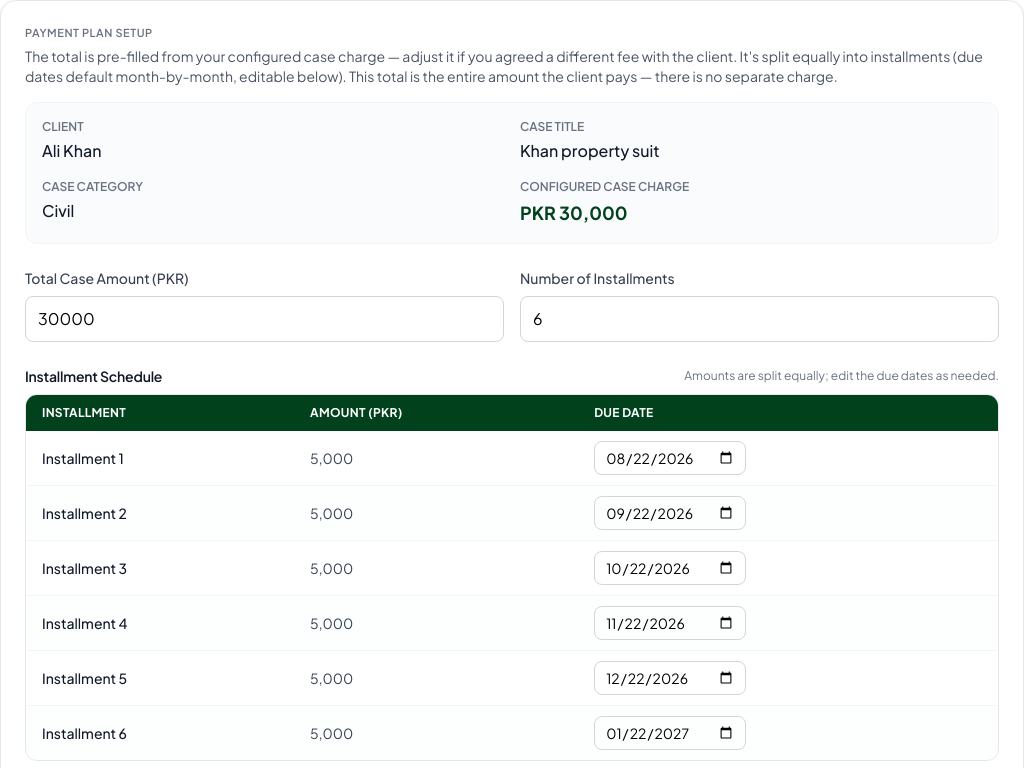
it: PaymentPlanSetup › refuses a due date in the past
Expected: the text "Total Case Amount (PKR)" is shown, [25,268,188,286]
Replace the text in the number field below "Total Case Amount (PKR)" with "9000": (264, 318) [25,296,504,342]
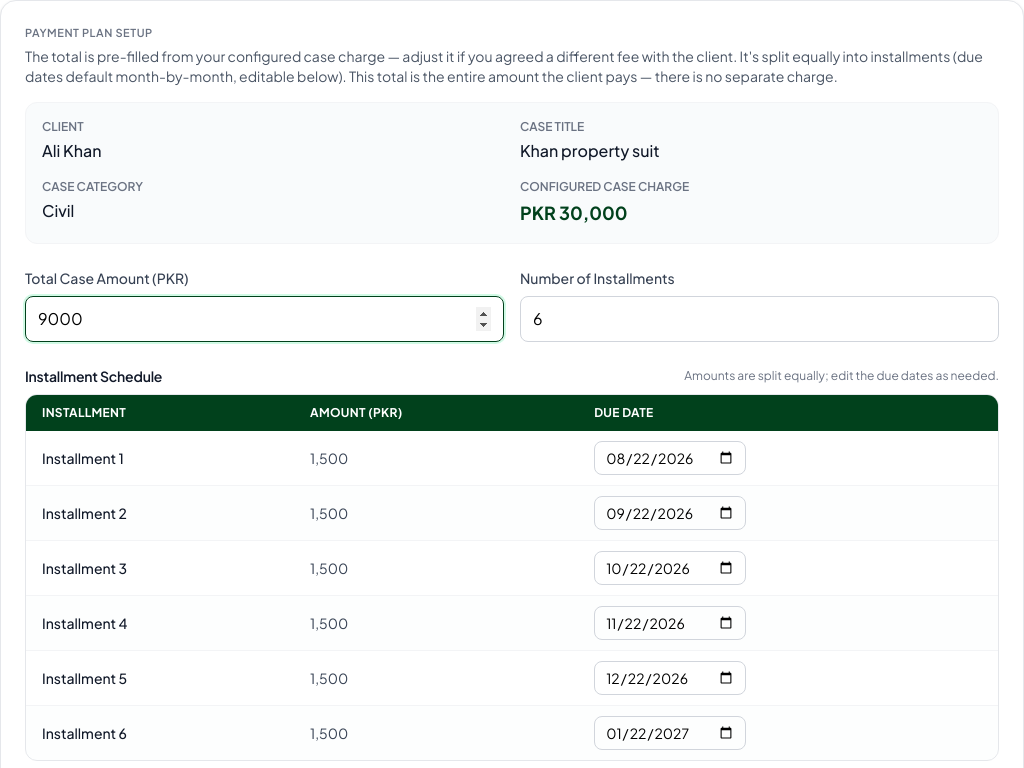
Replace the text in the number field below "Number of Installments" with "2": (760, 318) [520,296,999,342]
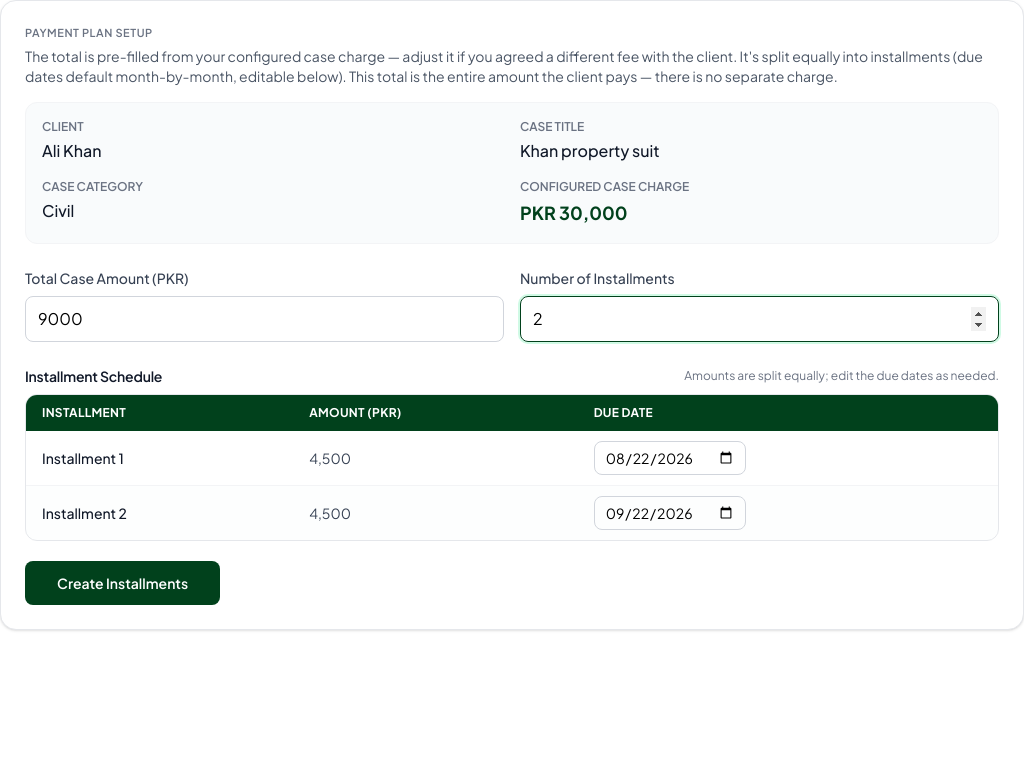
In the 1st date field: (670, 458) [594,440,746,474], type "2020-01-01"
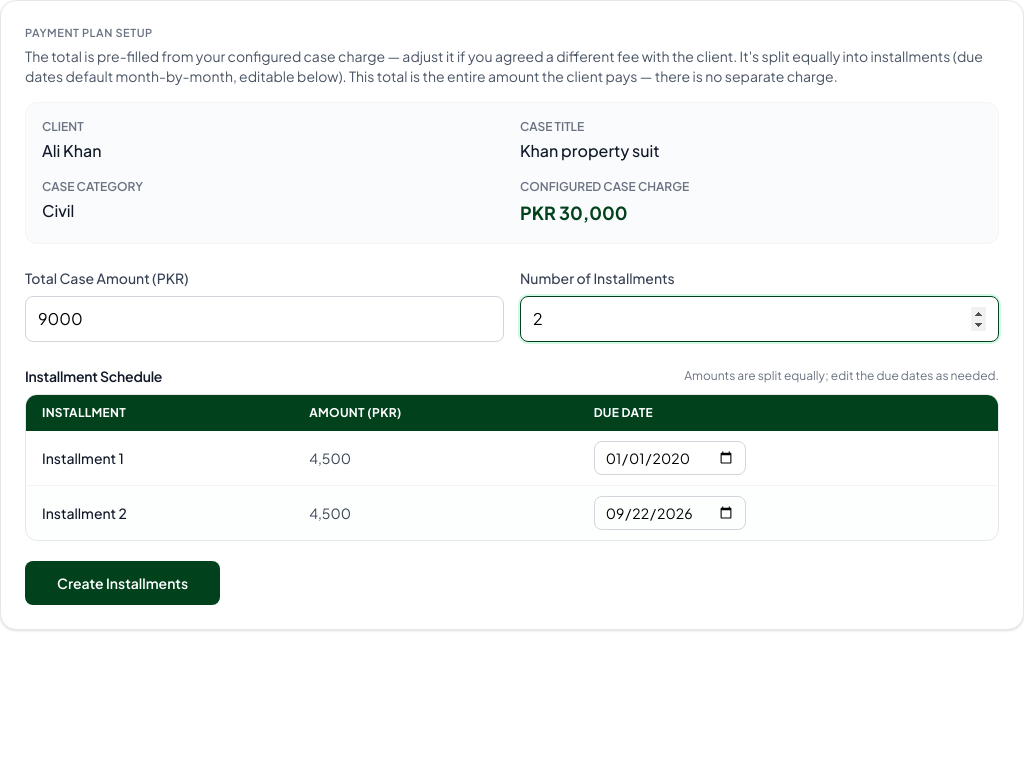
Click the button "Create Installments": (123, 582) [25,560,220,604]
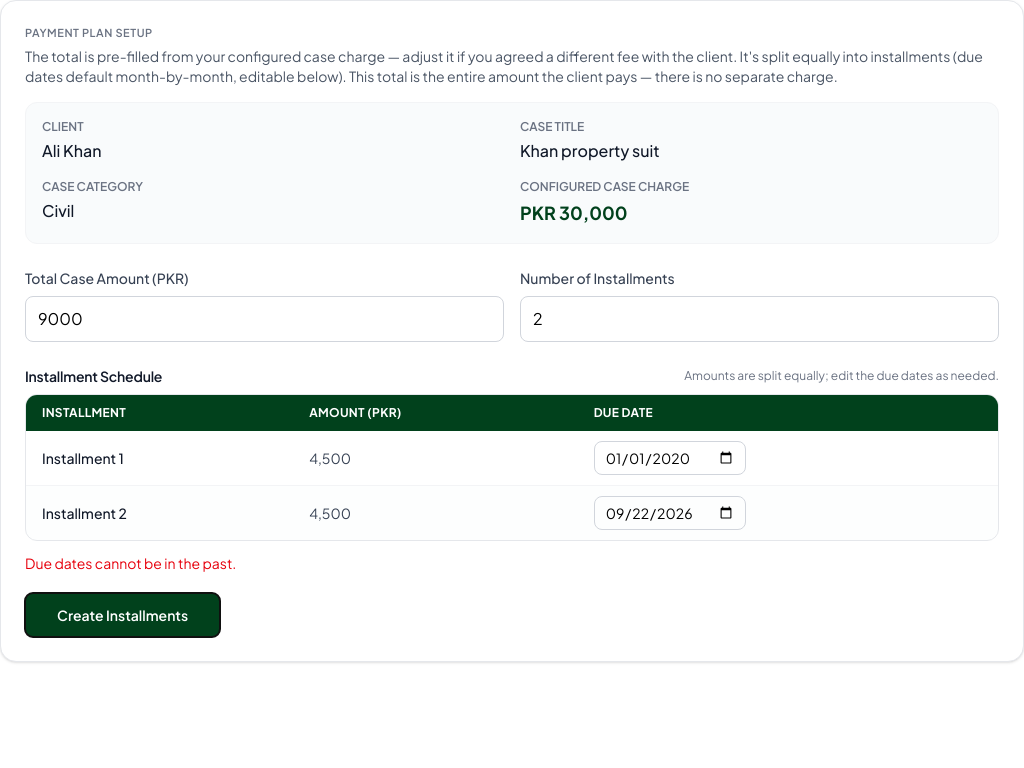
Now the text "Due dates cannot be in the past." is shown, box [25,554,236,572]
